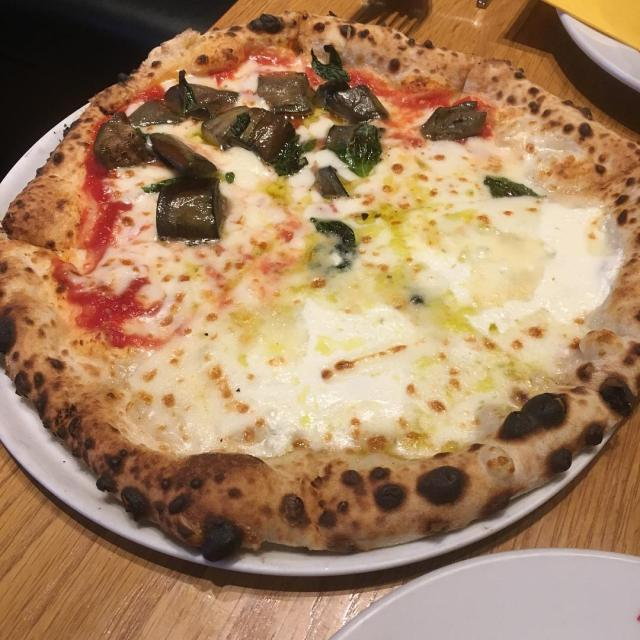basil: (310, 215, 357, 273), (344, 120, 384, 176), (482, 173, 548, 201), (276, 137, 319, 177), (306, 49, 352, 81), (141, 174, 199, 192), (176, 64, 197, 108), (324, 44, 342, 67), (232, 113, 250, 135)
pizza: (0, 9, 640, 564)
